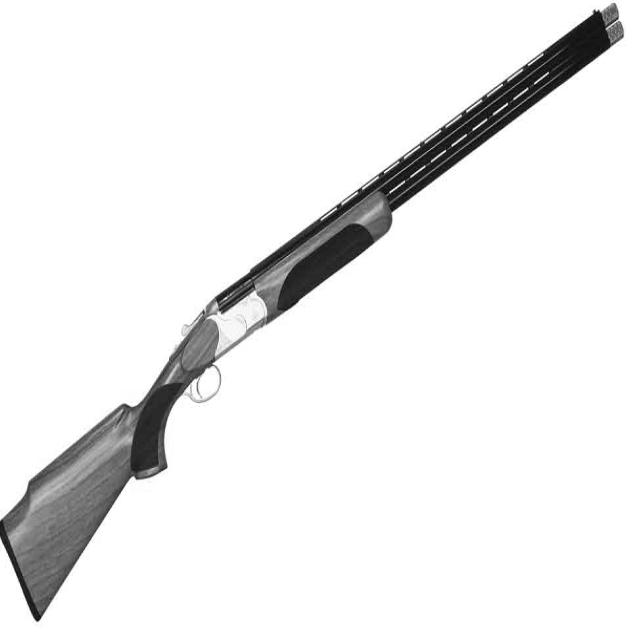Weapon: (0, 4, 623, 618)
